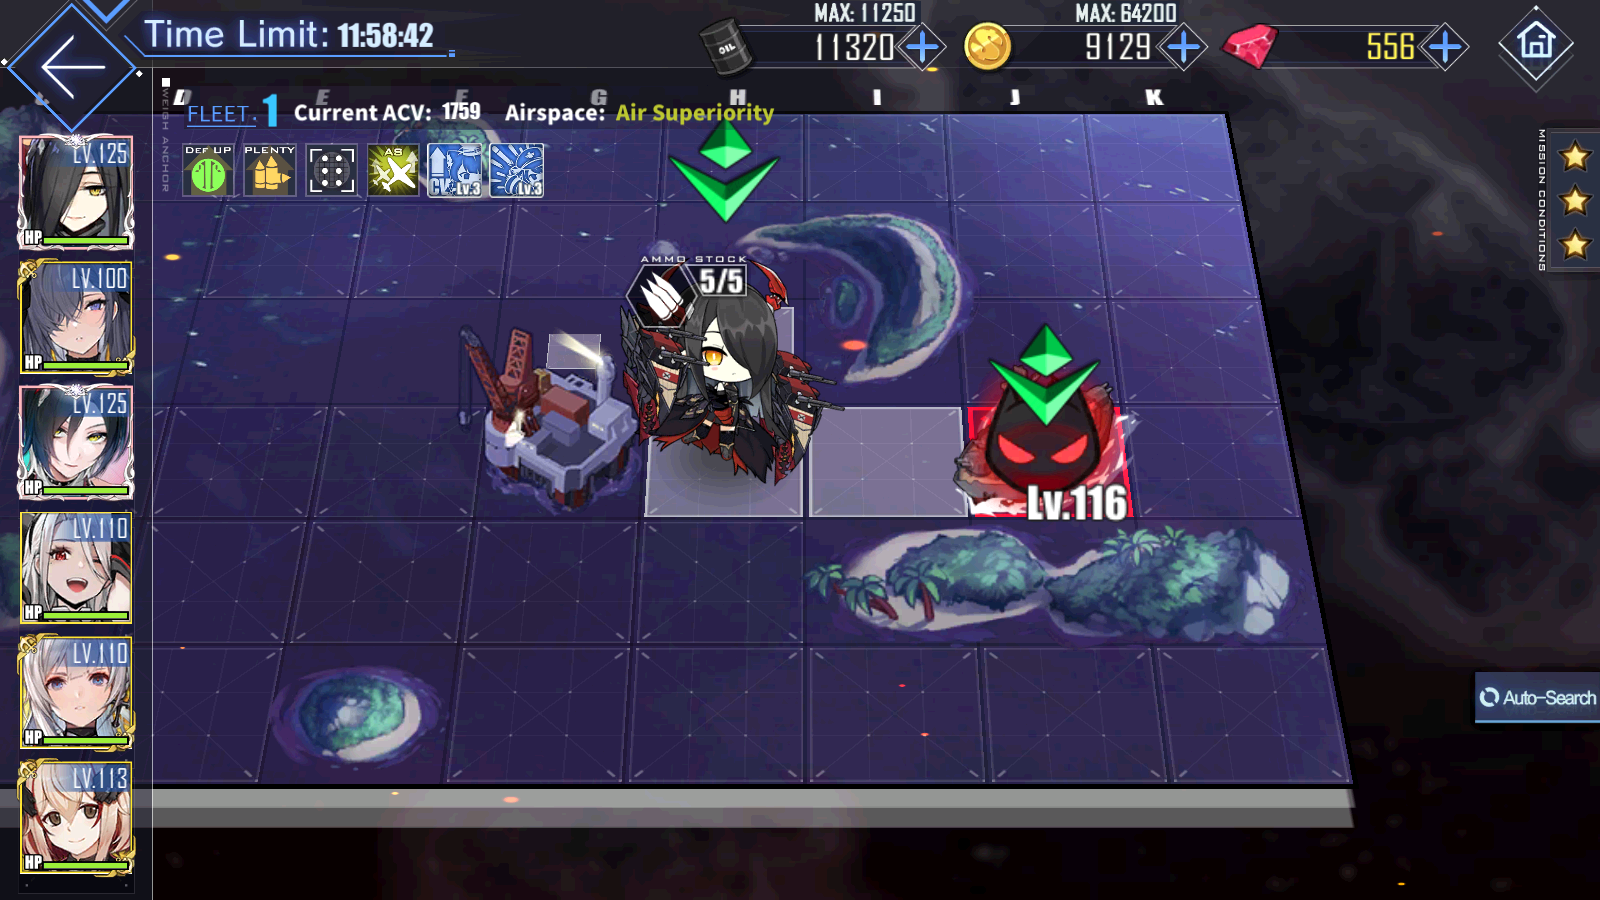ally: (622, 251, 820, 489)
boss: (952, 370, 1129, 518)
